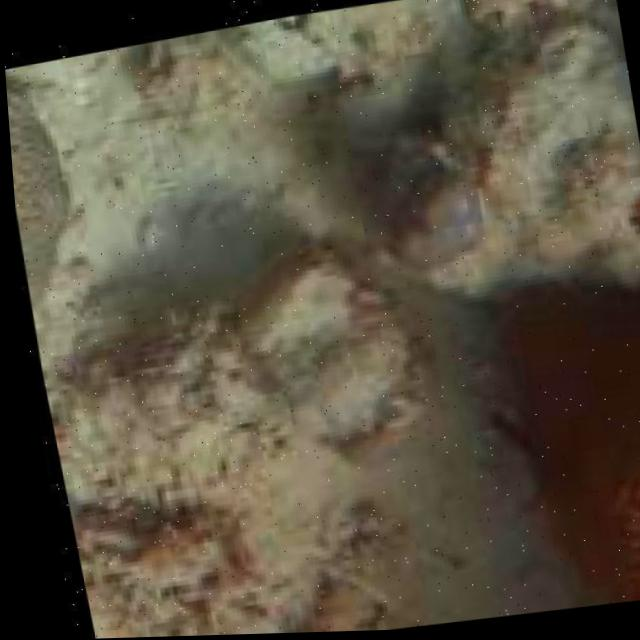Bleached Coral: (1, 18, 127, 348)
Healthy Coral: (533, 388, 640, 611)
